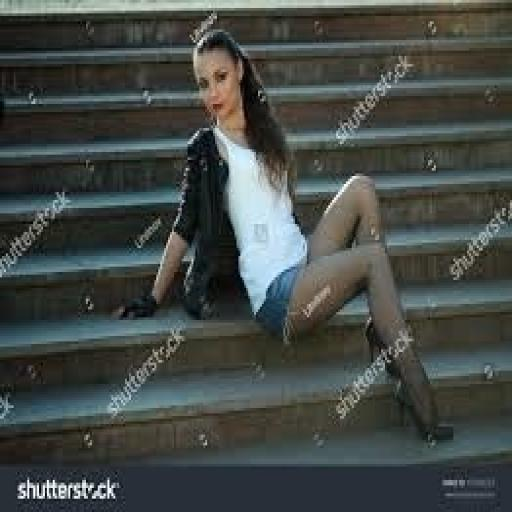sitting: (112, 16, 452, 448)
